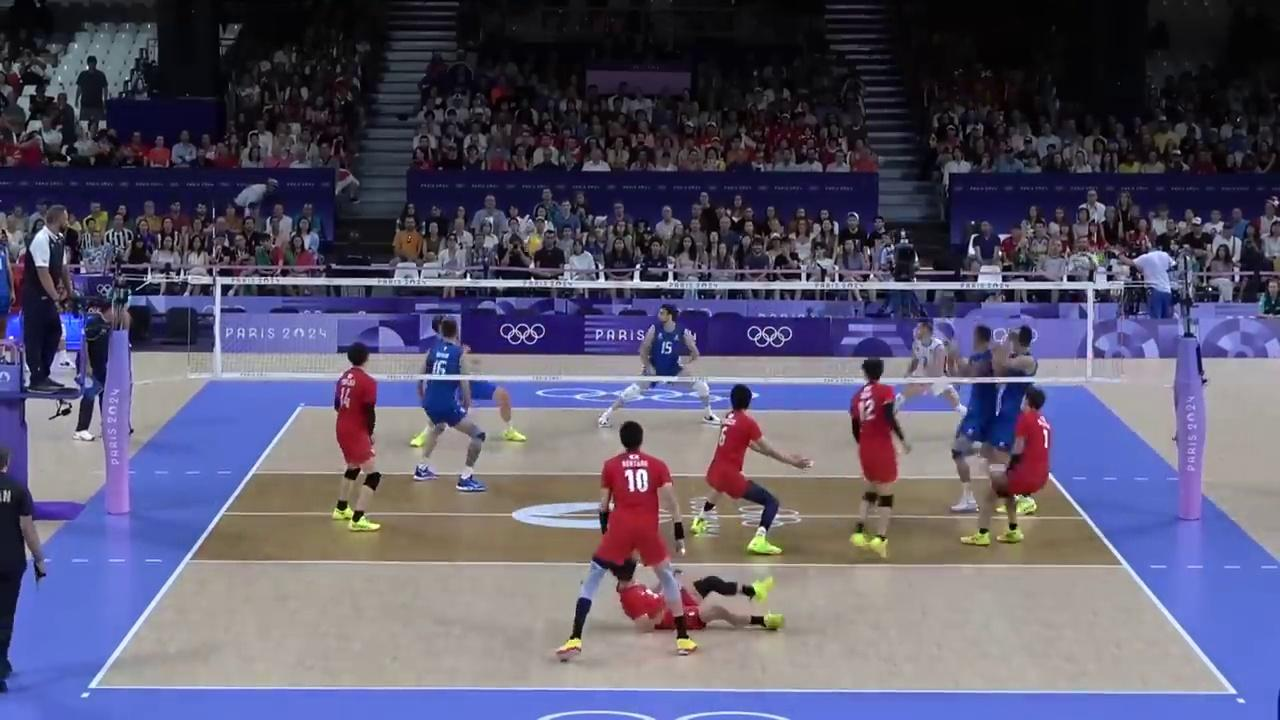ball: (527, 232, 542, 252)
